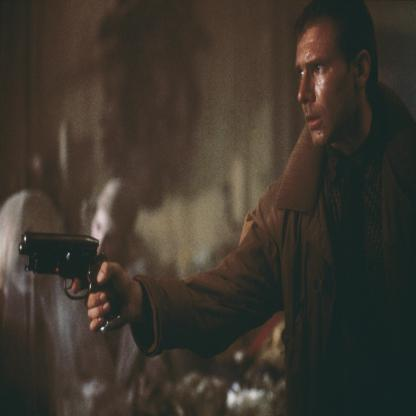Pistol: (14, 222, 128, 338)
